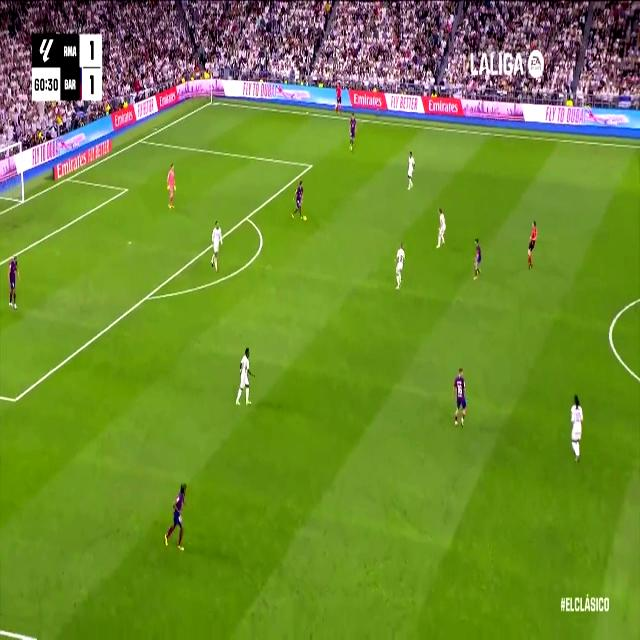bigarea_bottom_inner: (10, 388, 20, 412)
bigarea_top_inner: (307, 158, 313, 172)
bigarea_top_outter: (138, 133, 144, 145)
bottom_arc_area_intersection: (142, 287, 152, 306)
corner: (207, 96, 215, 106)
smallarea_top_inner: (124, 184, 128, 195)
top_arc_area_intersection: (243, 208, 251, 225)
